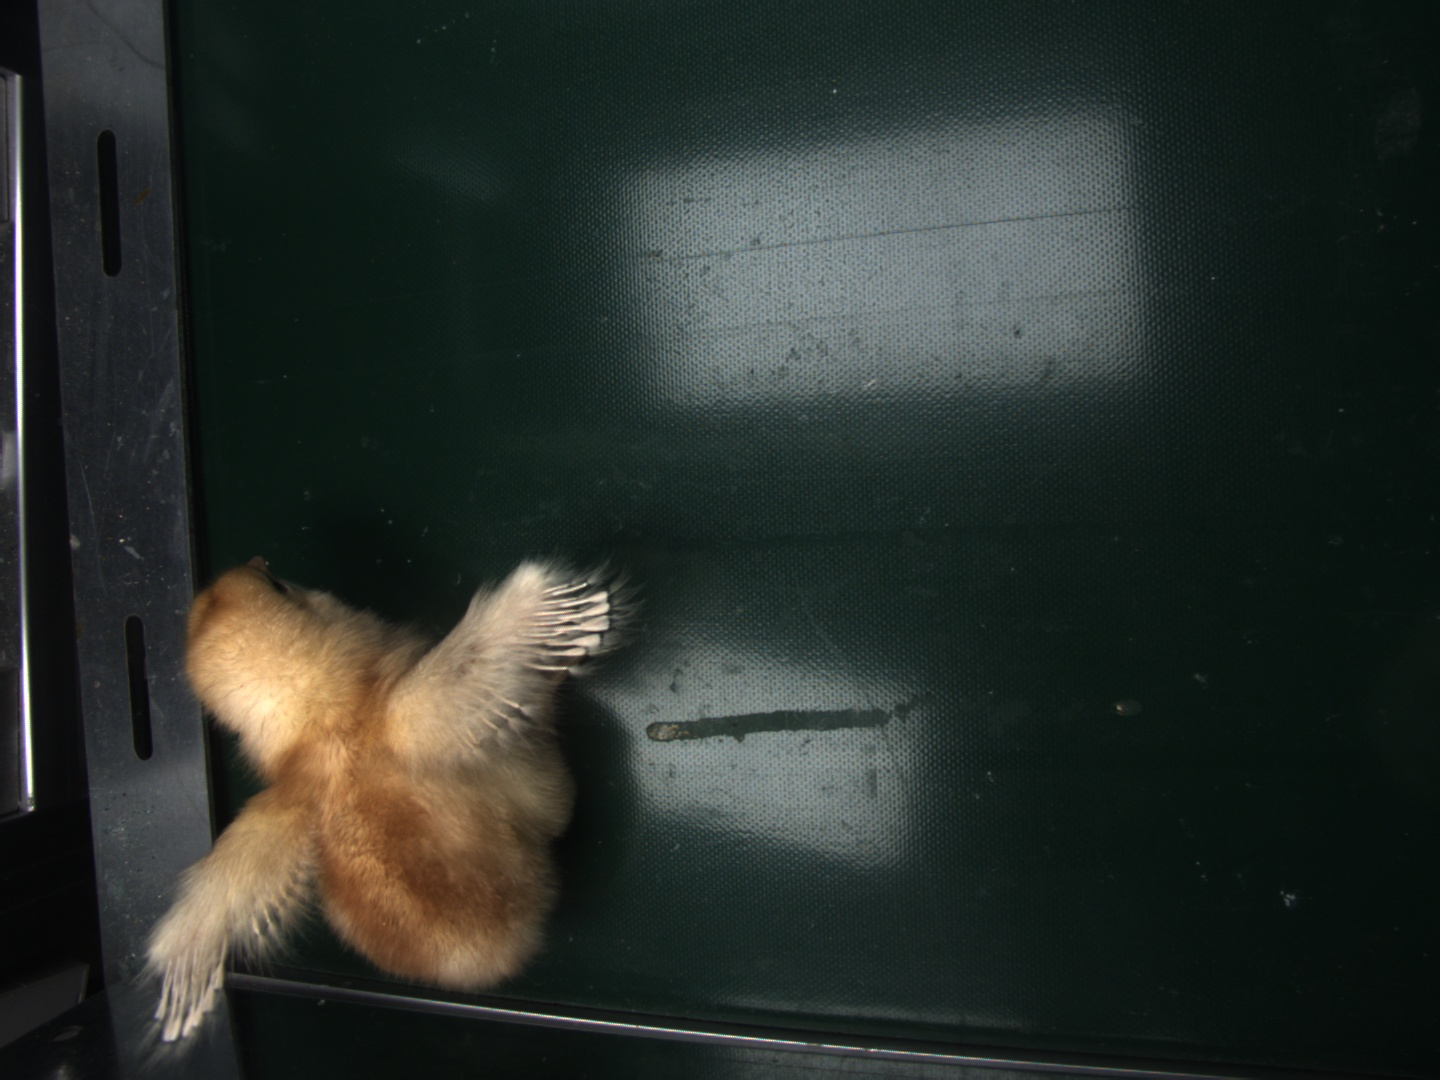female: (530, 582, 611, 664)
